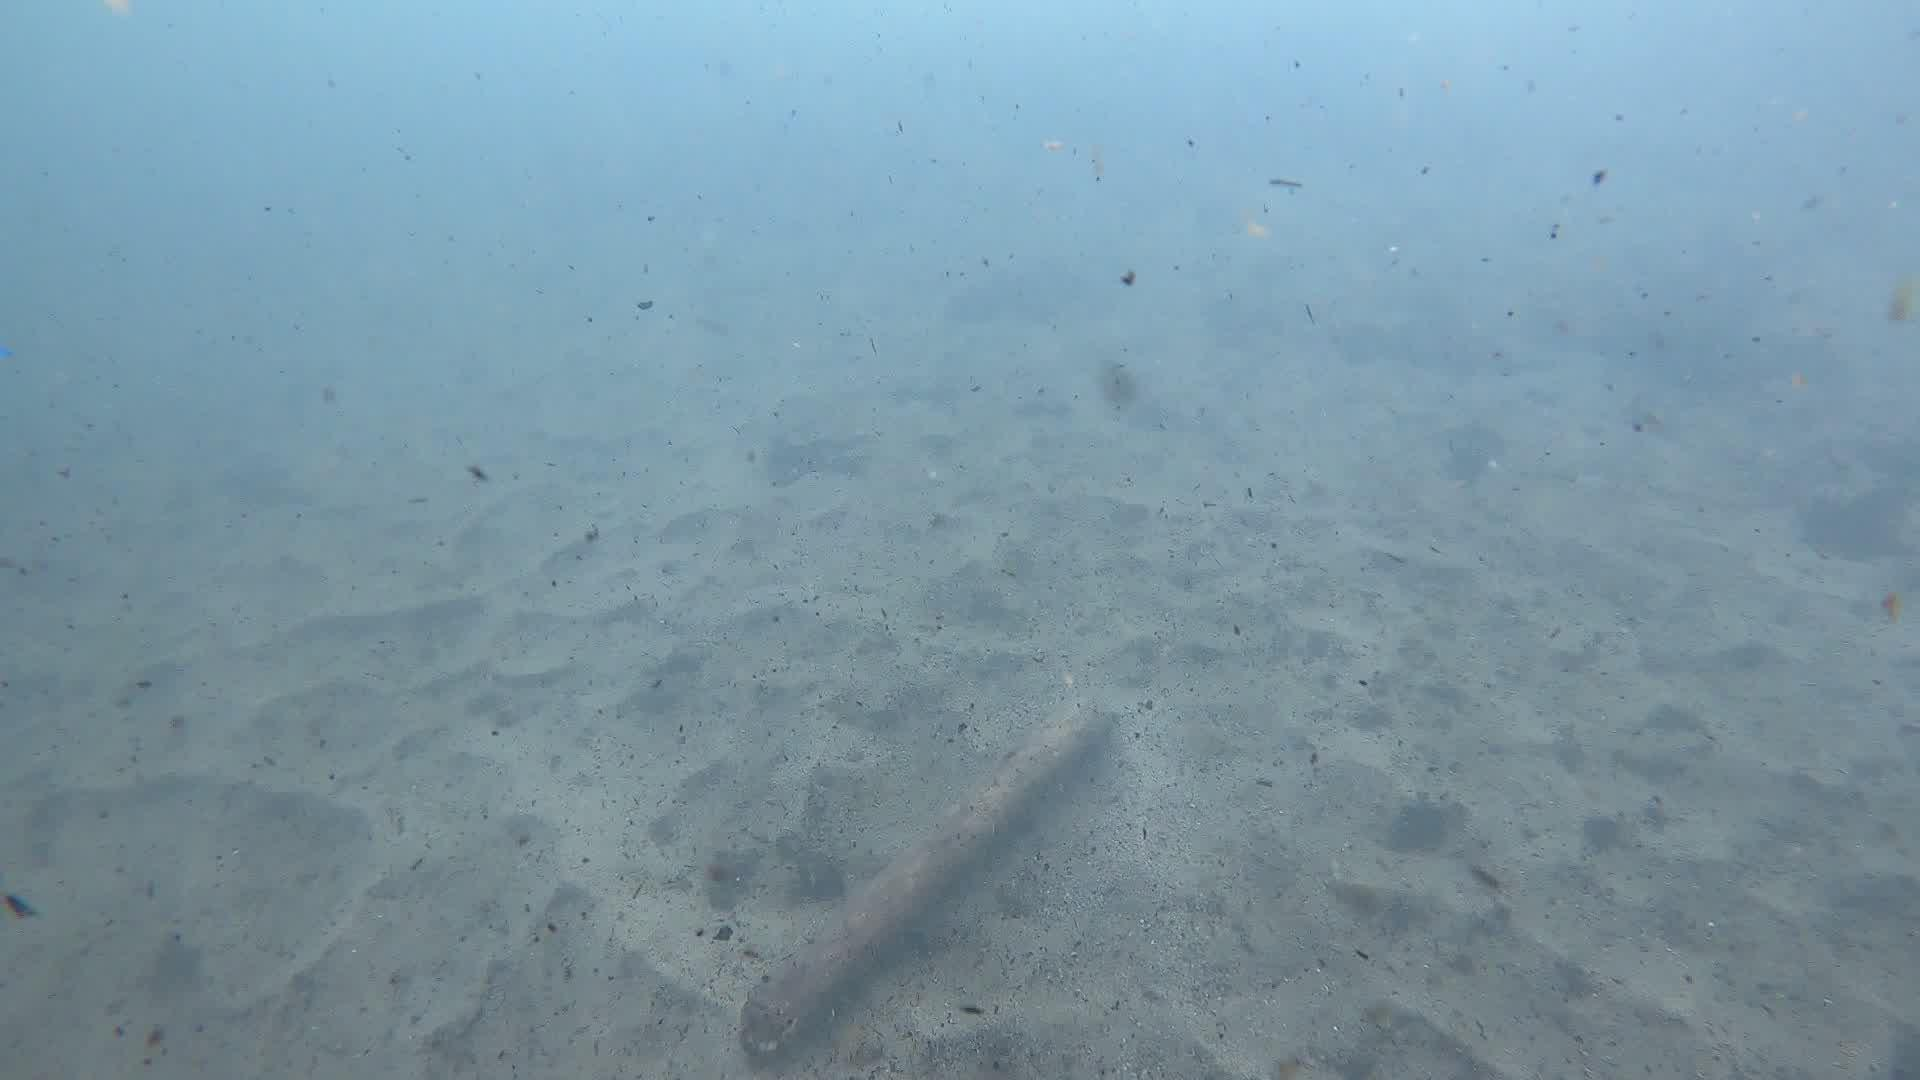wood: (735, 696, 1112, 1062)
